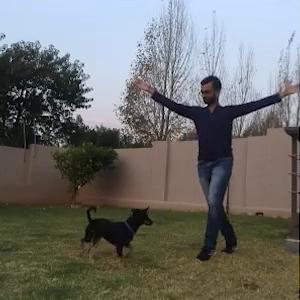takeoff: (125, 57, 296, 266)
